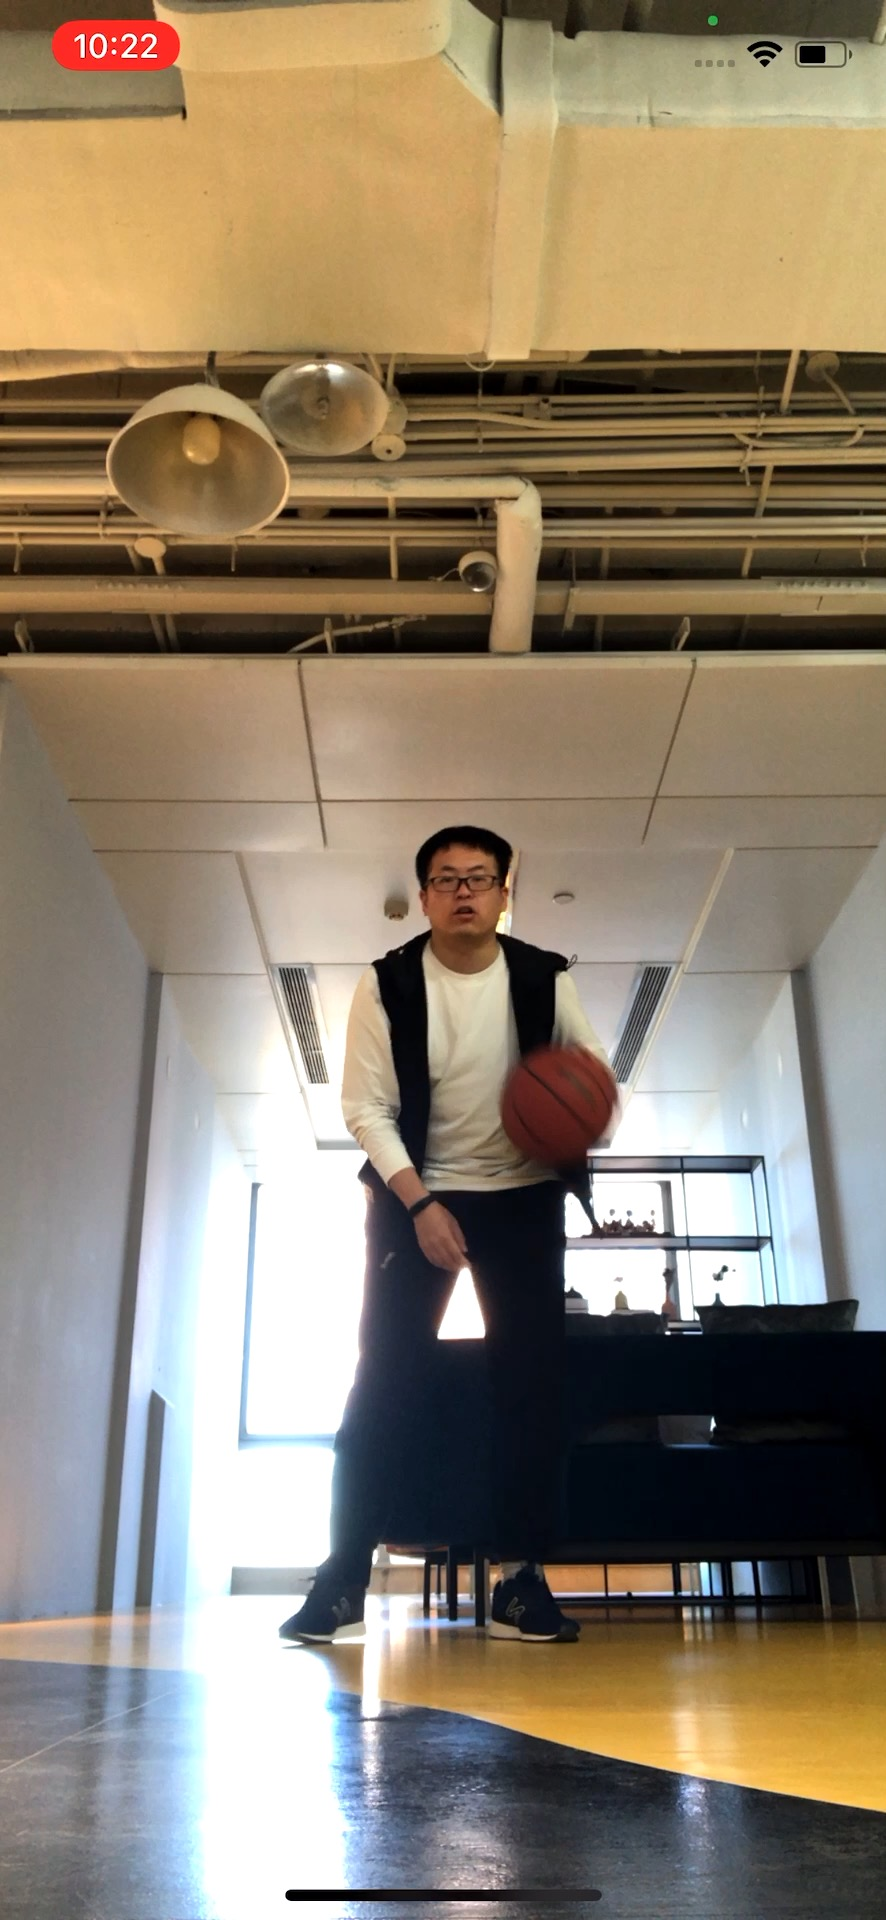ball: (498, 1047, 616, 1160)
